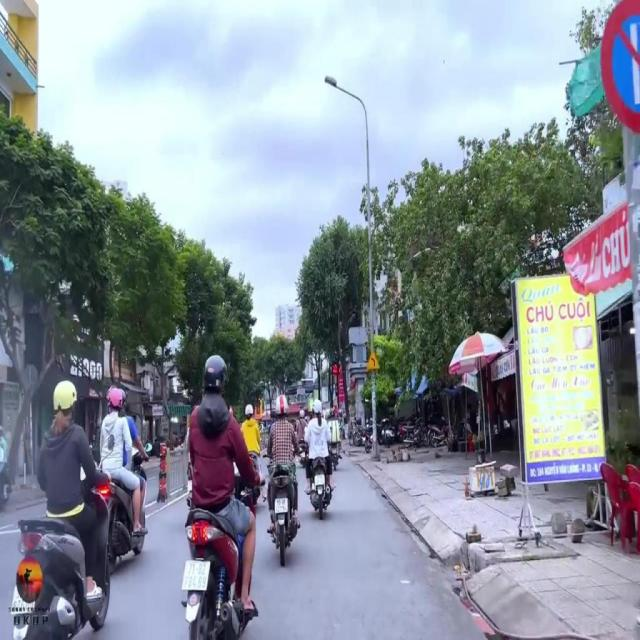cam_do_xe: (599, 0, 639, 132)
cho_ngoat_nguy_hiem_ben_trai: (366, 347, 381, 370)
